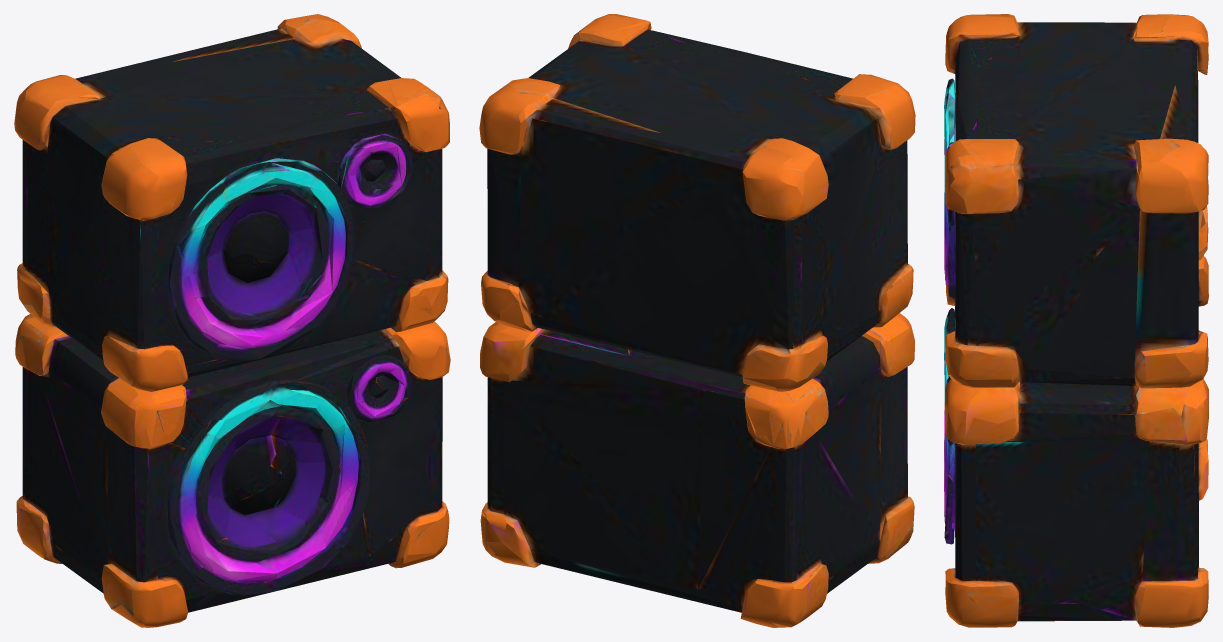
File: cy-hoejttaler.glb
The picture shows the model from 3 angles, left to right: view 1: azimuth 30°, elevation 25°; view 2: azimuth 150°, elevation 25°; view 3: azimuth 270°, elevation 25°; orthographic projection.
Size of the model in its own units: 1.38 by 1.9 by 0.9592.
1 material, 1 textured.
